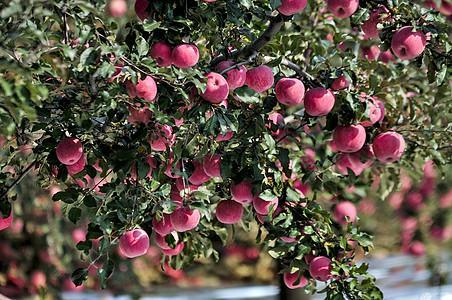apple: (391, 27, 426, 58), (118, 226, 148, 257), (303, 87, 335, 116), (170, 206, 201, 232), (213, 198, 244, 224), (336, 125, 365, 151), (374, 134, 403, 160), (277, 77, 302, 105), (219, 61, 244, 89), (201, 75, 226, 103), (246, 65, 271, 93), (174, 43, 197, 68)
